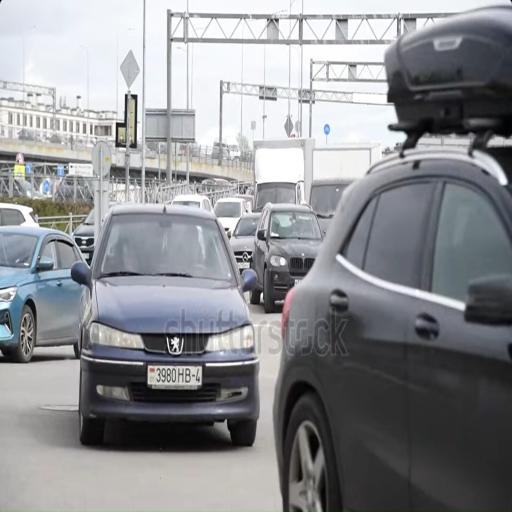License plates: (148, 366, 202, 389), (238, 262, 249, 269), (84, 253, 91, 260), (295, 279, 301, 285)
